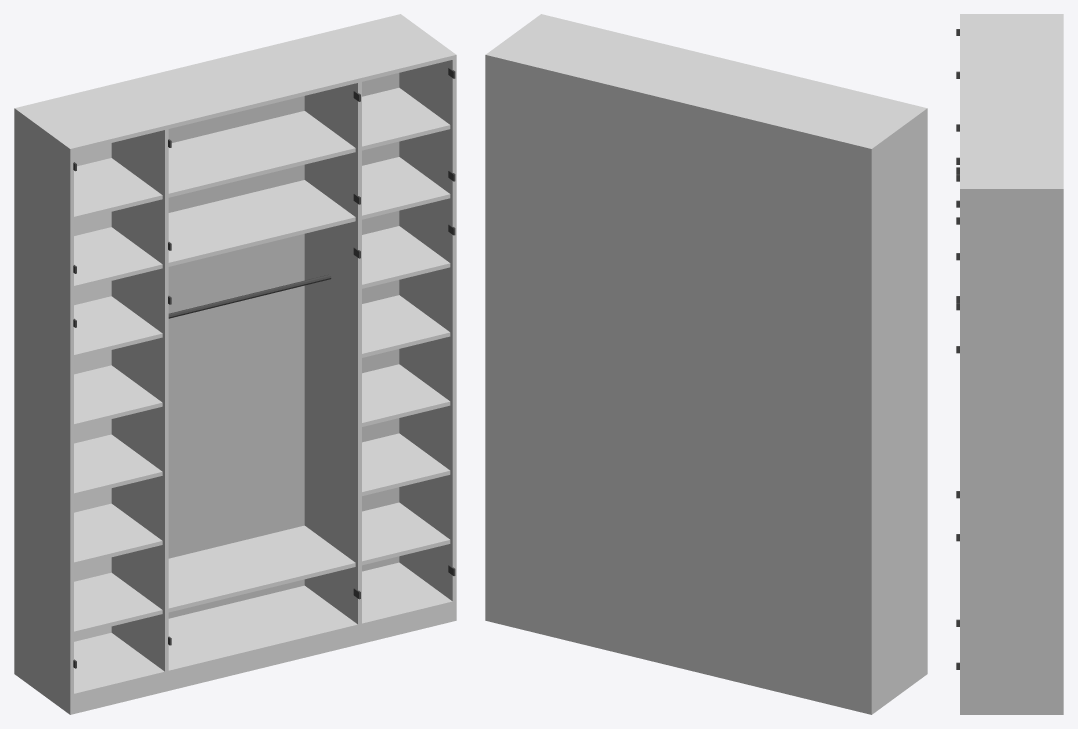
The model's file is Wardrobe9_C1.fbx.
3 views of the same model, side by side, from view 1: azimuth 30°, elevation 25°; view 2: azimuth 150°, elevation 25°; view 3: azimuth 270°, elevation 25° (orthographic). The views are drawn at different scales.
Visible parts, largest first — view 1: Wardrobe9_C1; view 2: Wardrobe9_C1; view 3: Wardrobe9_C1.
Boxes of the visible parts, <box> form: Wardrobe9_C1: <box>14,14,456,714</box>; Wardrobe9_C1: <box>485,14,927,714</box>; Wardrobe9_C1: <box>956,14,1063,714</box>.
Size of the model in its own units: 200 by 280 by 51.79.
